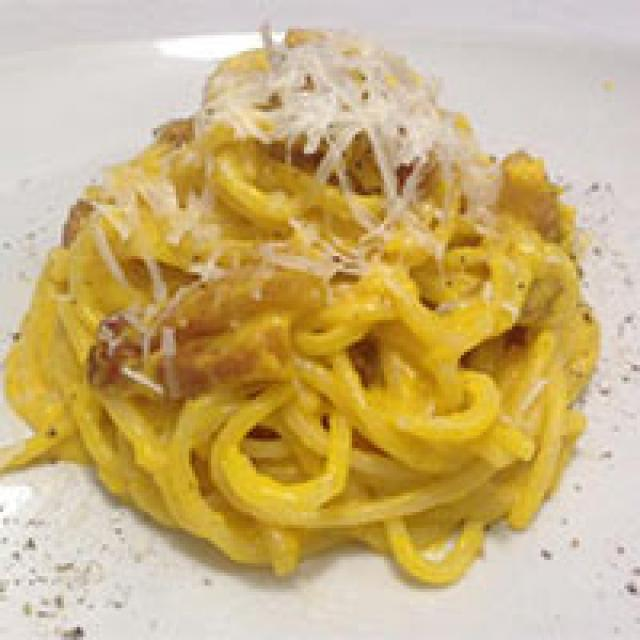Pasta with carbonara sauce: (32, 42, 605, 586)
